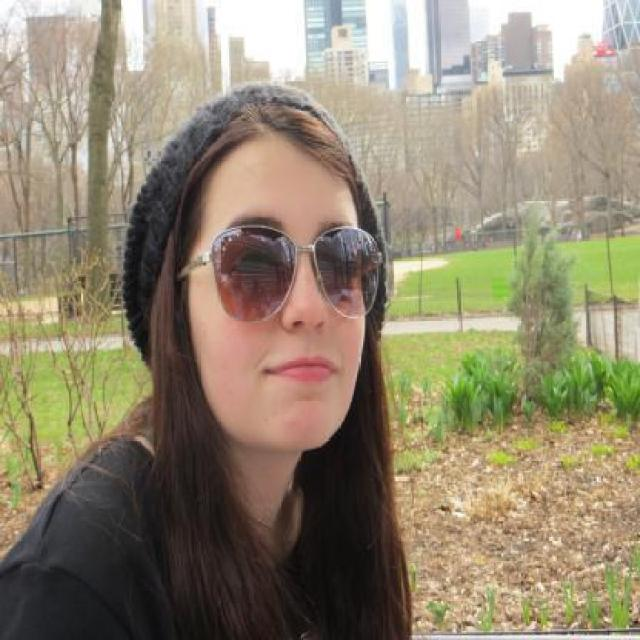face_nomask: (204, 218, 379, 404)
glasses: (196, 210, 384, 327)
head_nohelmet: (137, 85, 381, 187)
person: (0, 95, 408, 640)
